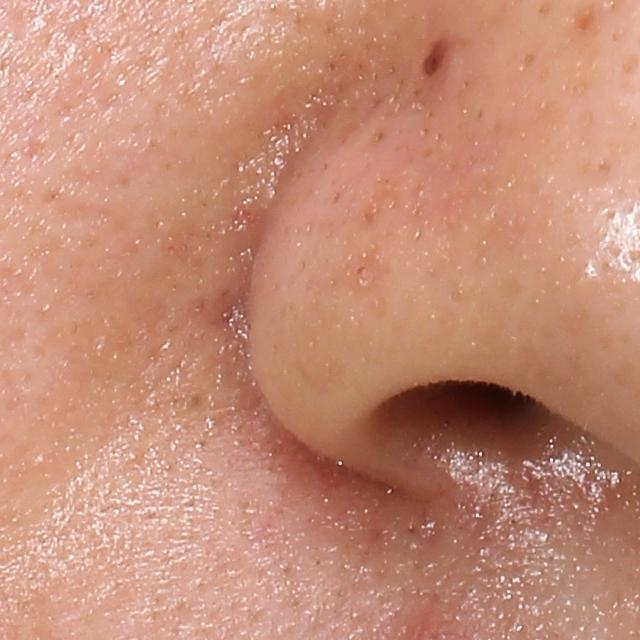nevus: (420, 34, 456, 78)
